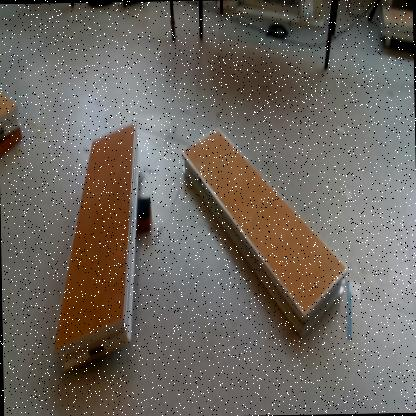Stairs: (181, 125, 350, 341), (53, 119, 142, 376), (1, 90, 21, 139)
